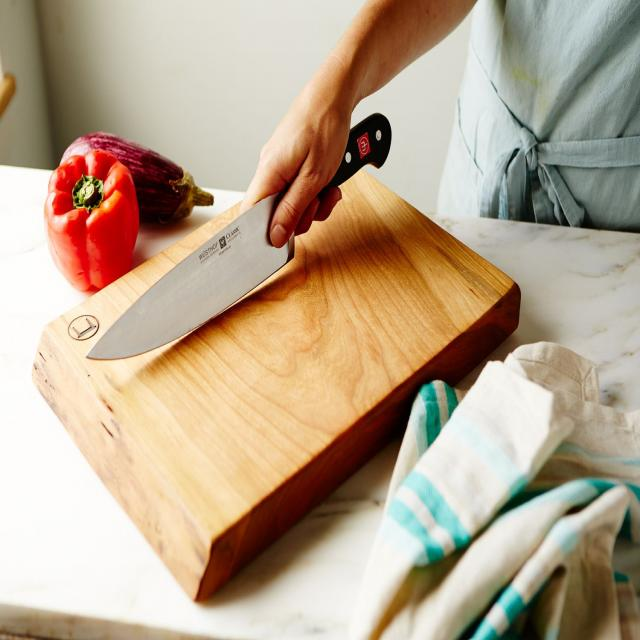knife: (86, 112, 392, 364)
